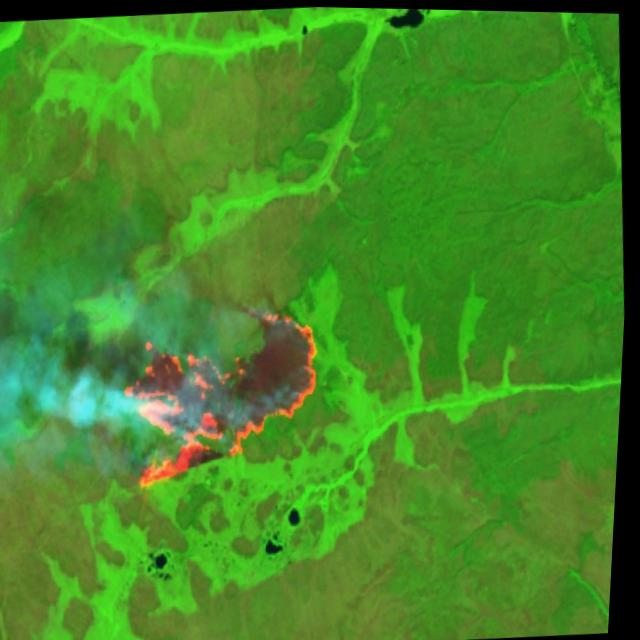fire: (112, 296, 338, 496)
